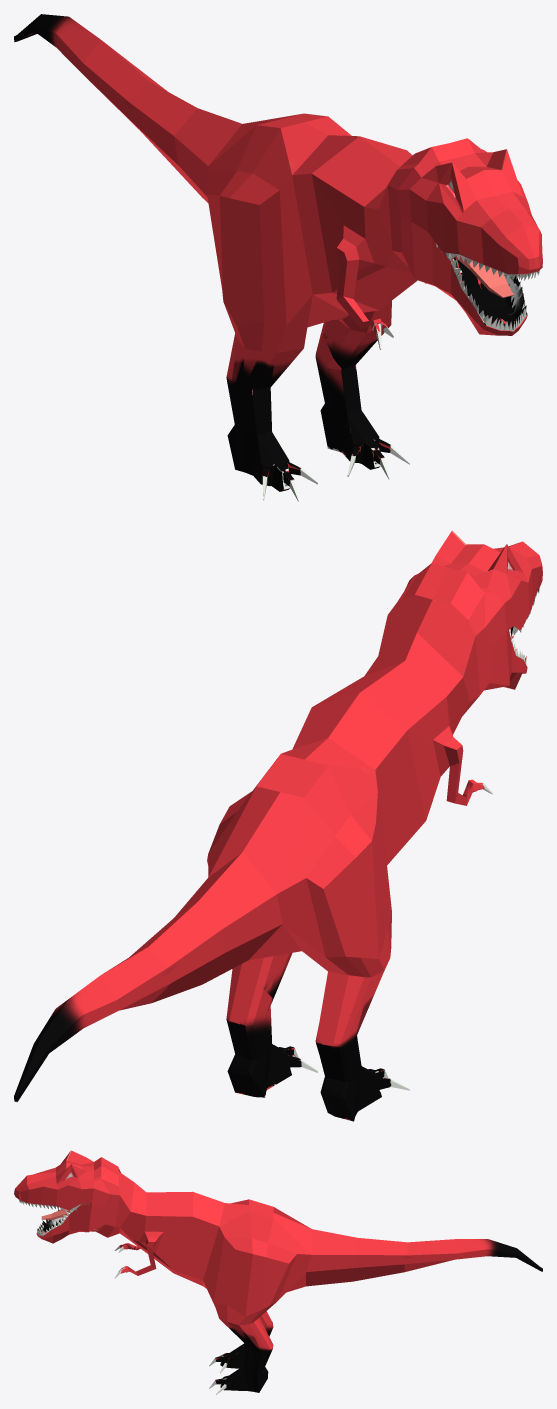
The model's file is trex_no_animate.gltf.
The picture shows the model from 3 angles, top to bottom: view 1: azimuth 30°, elevation 25°; view 2: azimuth 150°, elevation 25°; view 3: azimuth 270°, elevation 25°; orthographic projection. The views are drawn at different scales.
Parts seen in each view (by area): view 1: Plane; view 2: Plane; view 3: Plane.
Boxes of the visible parts, left/top/right/bottom form: Plane: left=14, top=14, right=542, bottom=501; Plane: left=14, top=530, right=542, bottom=1121; Plane: left=14, top=1150, right=542, bottom=1394.
Size of the model in its own units: 1.22 by 3.45 by 7.48.
Materials: 1 (1 with a texture image).
